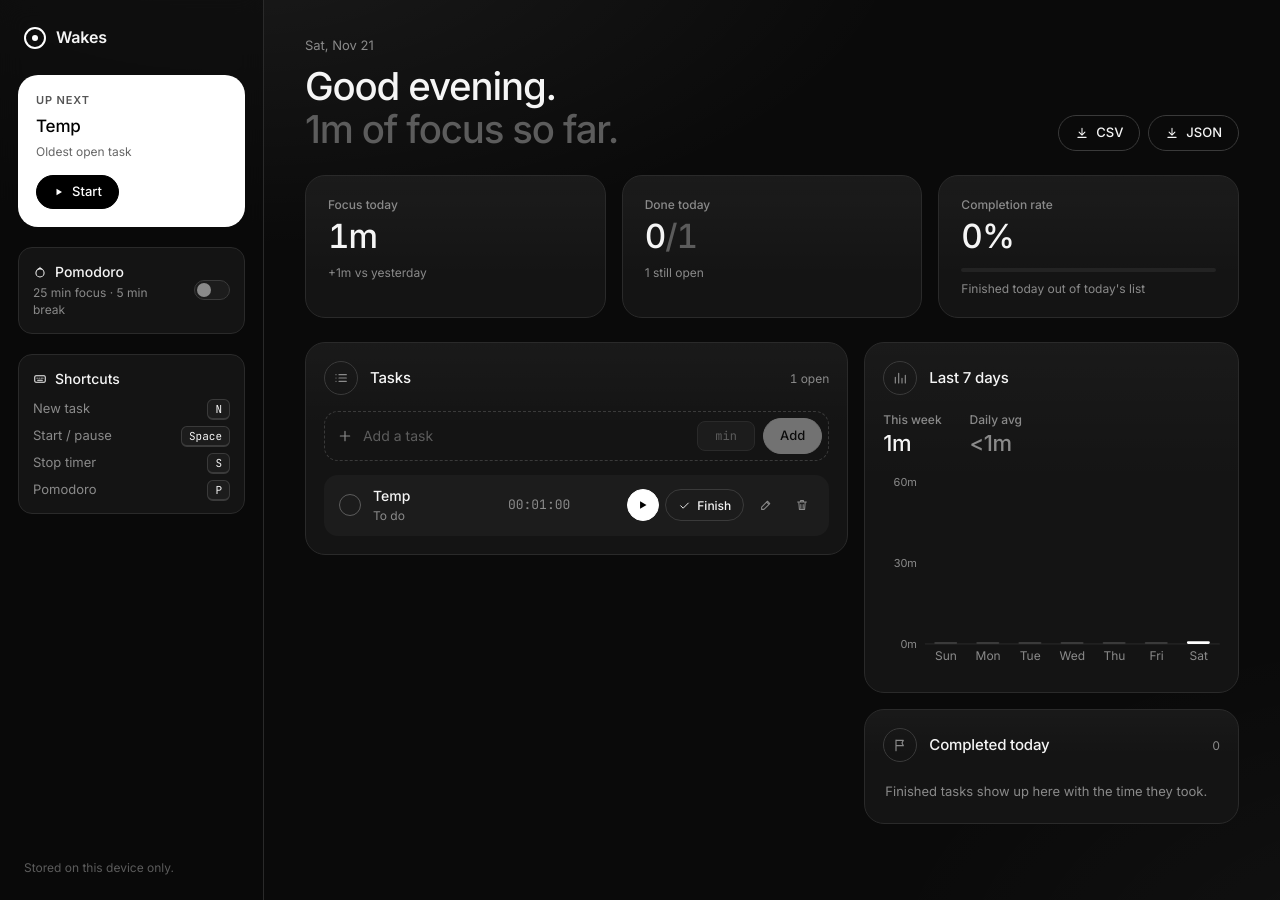
Test: App › deleting asks for confirmation and removes the task's sessions
Step 1. Click the button named "Delete \"Temp\"" → (802, 505), box [786,489,818,521]
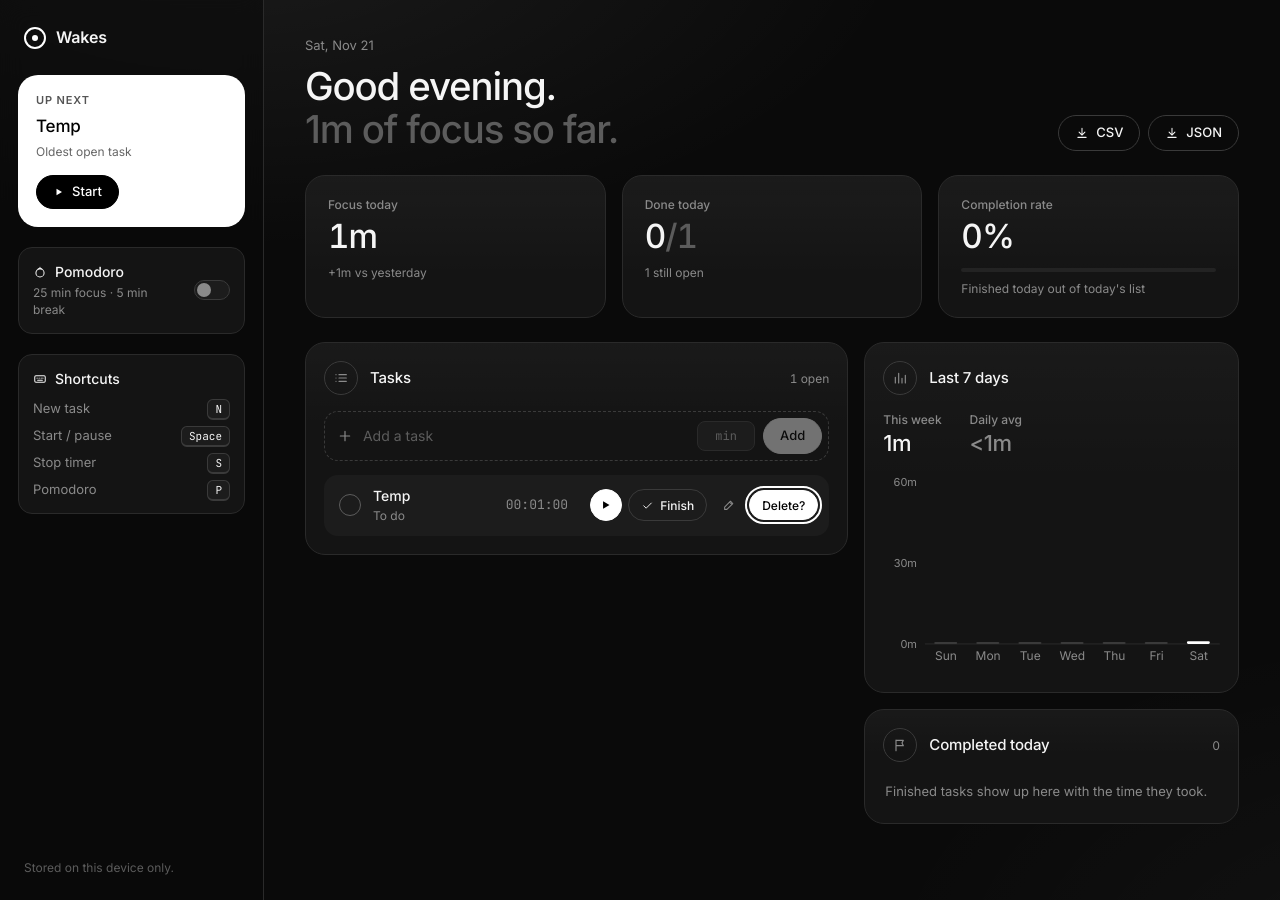
Expected: the text "Temp" next to "00:01:00" is shown, [373,487,410,504]
Step 2. Click the button named "Confirm delete \"Temp\"" → (784, 505), box [749,490,818,520]
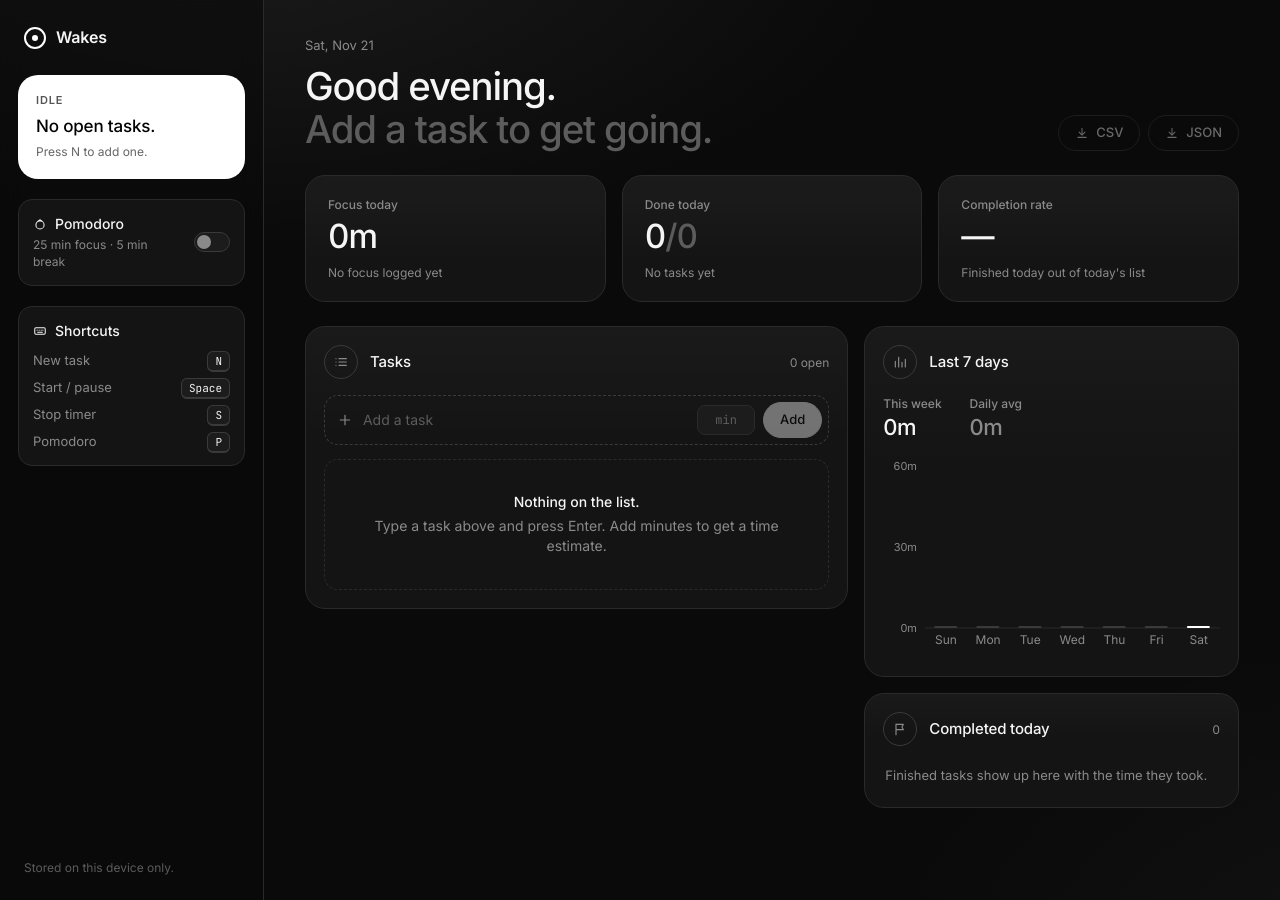
Expected: the text "Temp" is gone
Expected: the text "Nothing on the list." is shown, [514,493,640,510]
